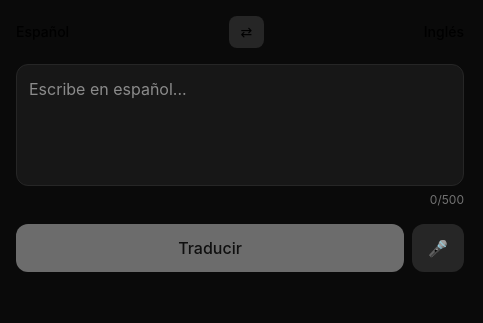
TranslatePage (voz) › permiso de micrófono denegado muestra un mensaje claro
Click the button named "Hablar": (438, 248) [412,224,464,272]
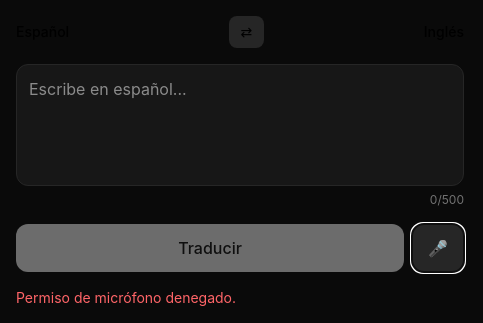
expect the message reads "Permiso de micrófono denegado.": met, box [16,289,236,306]
